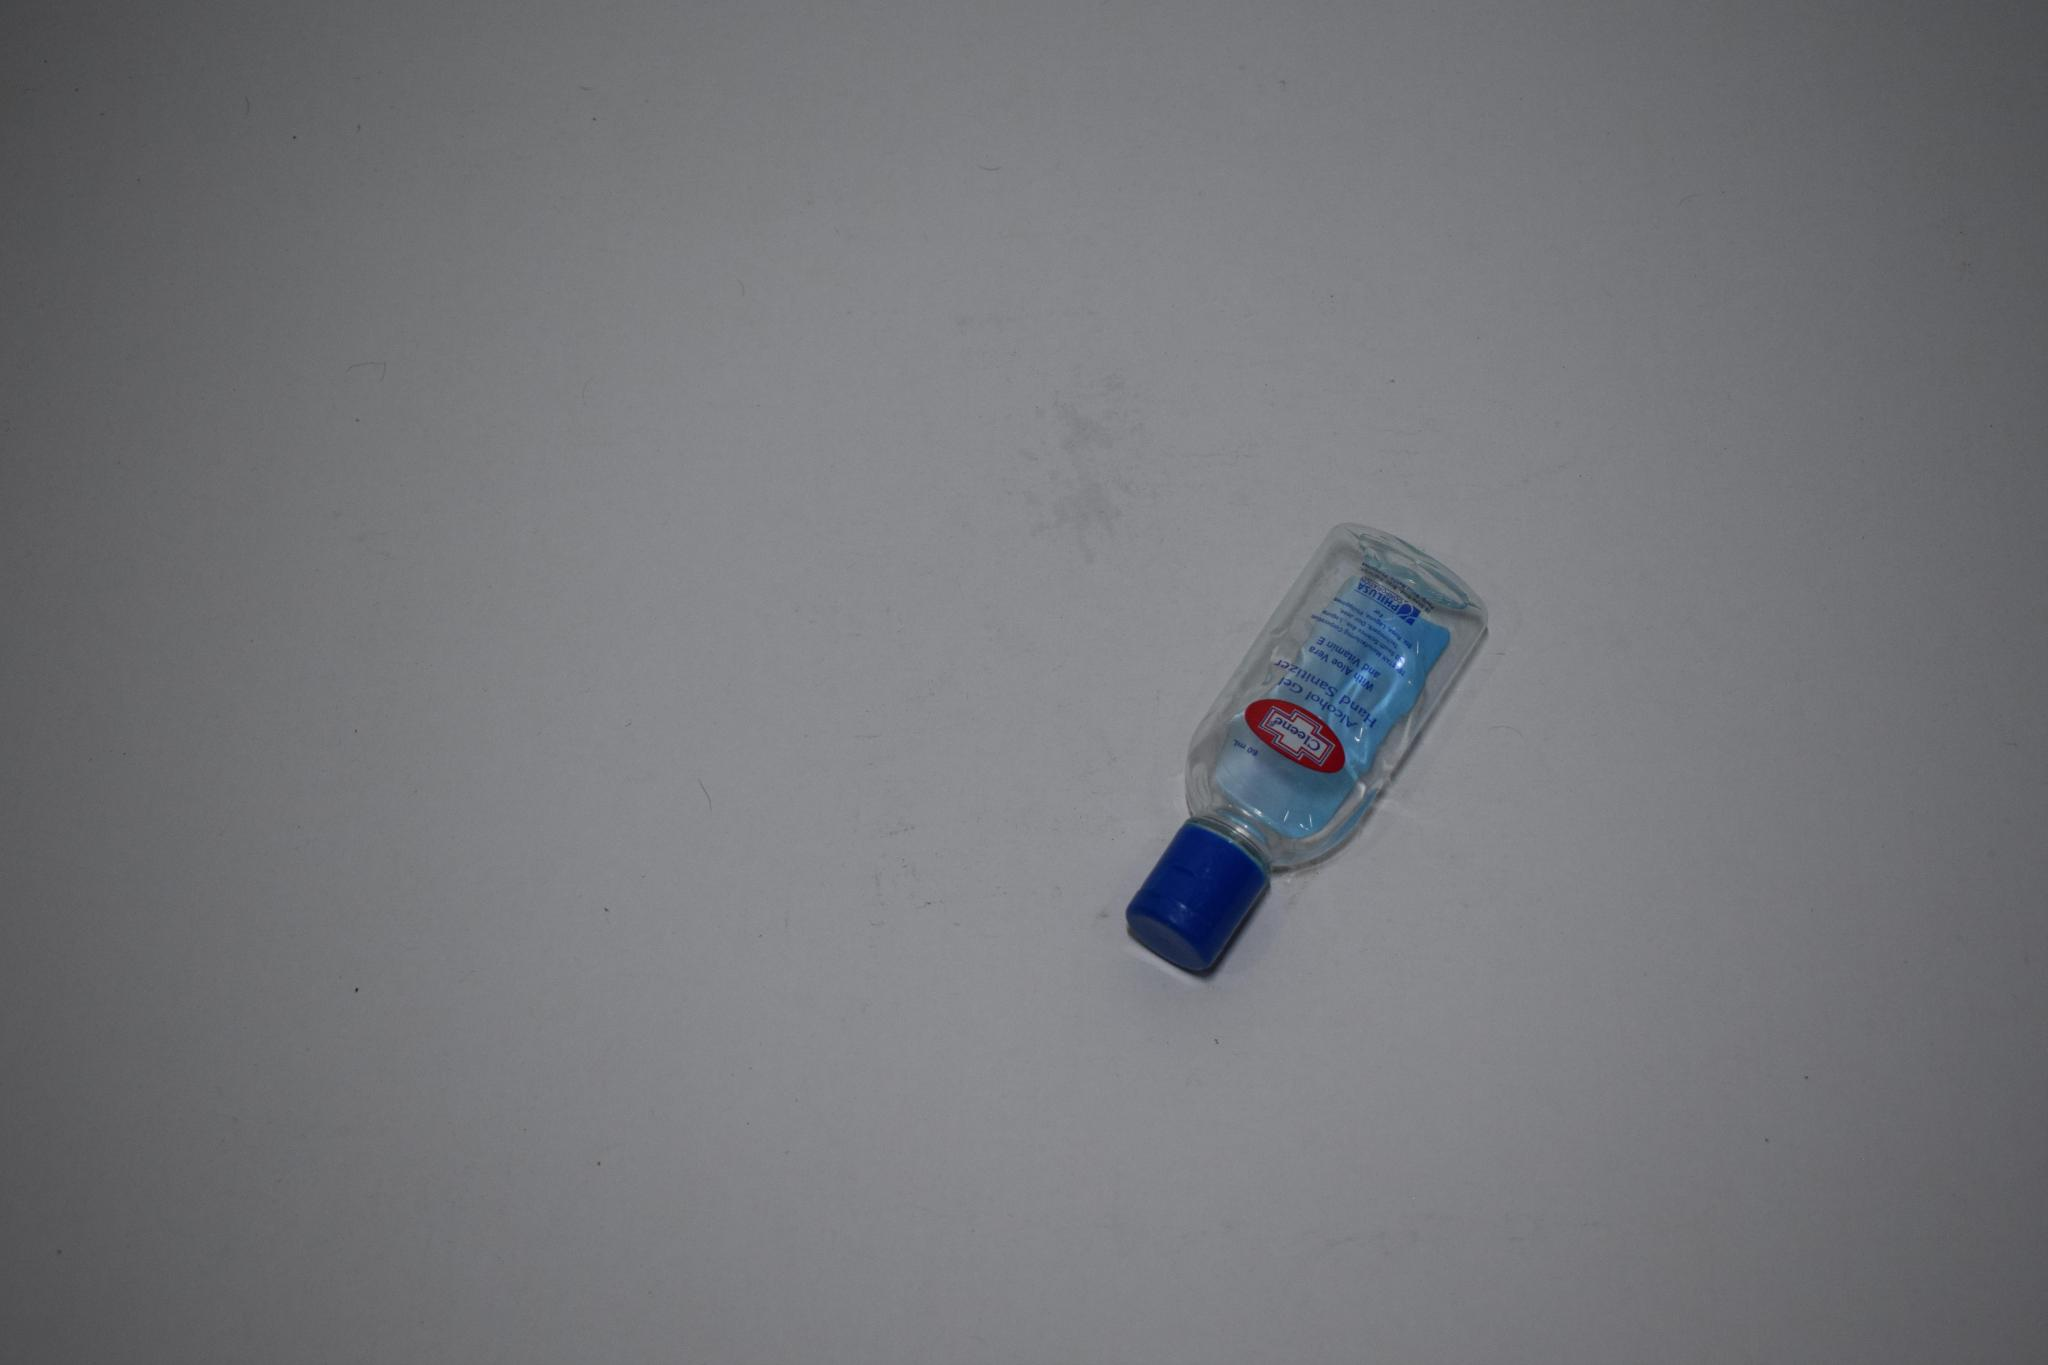bottle: (1096, 491, 1587, 1009)
